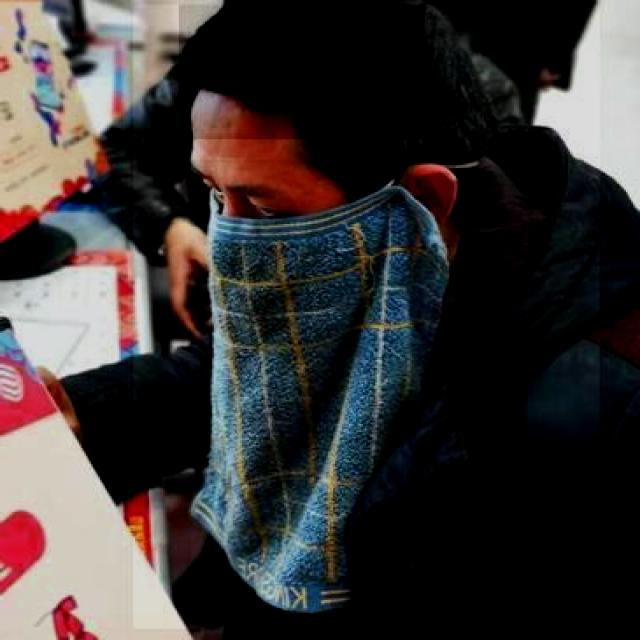face_mask: (190, 160, 403, 360)
head_nohelmet: (177, 5, 424, 141)
person: (132, 5, 600, 630)
